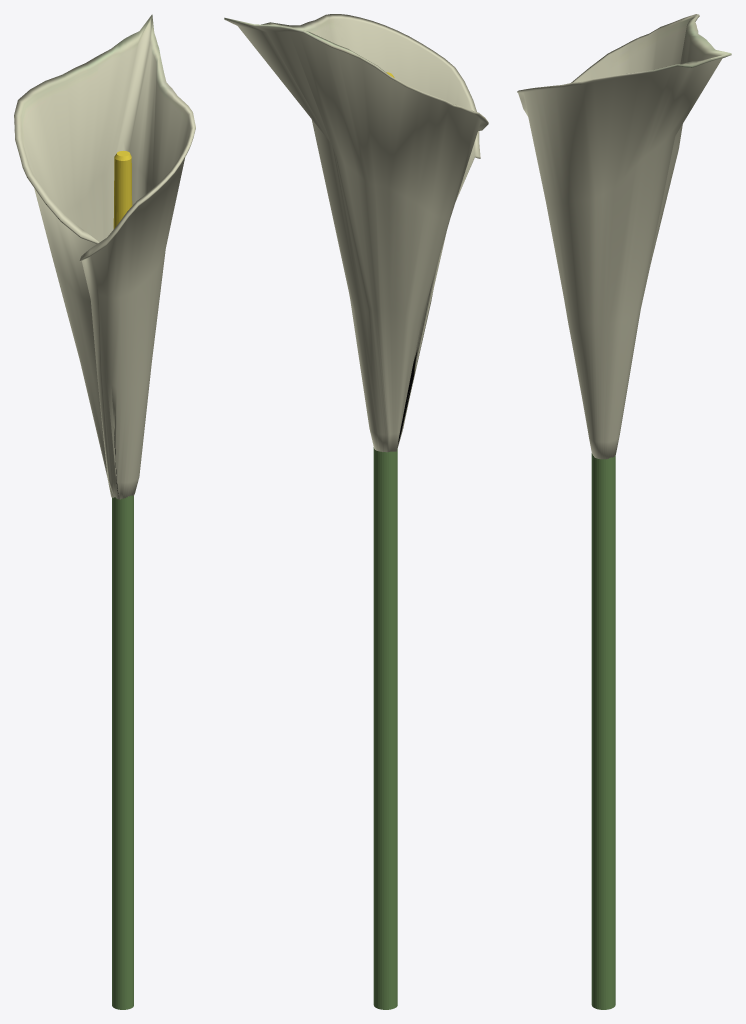
File: calla-lily.glb
3 views of the same model, side by side, from view 1: azimuth 30°, elevation 25°; view 2: azimuth 150°, elevation 25°; view 3: azimuth 270°, elevation 25° (orthographic). The views are drawn at different scales.
Visible parts, largest first — view 1: Object_2, Object_5, Object_3; view 2: Object_2, Object_5; view 3: Object_2, Object_5.
Part boxes in pixels (x1,y1,x2,y2): Object_2: (14, 14, 195, 499); Object_5: (112, 495, 133, 1009); Object_3: (113, 150, 132, 228); Object_2: (224, 14, 488, 452); Object_5: (373, 447, 397, 1009); Object_2: (517, 14, 731, 459); Object_5: (591, 453, 615, 1009).
Bounding box in the file's own units: 0.2 × 1 × 0.1946.
Materials: 3 (1 with a texture image).
